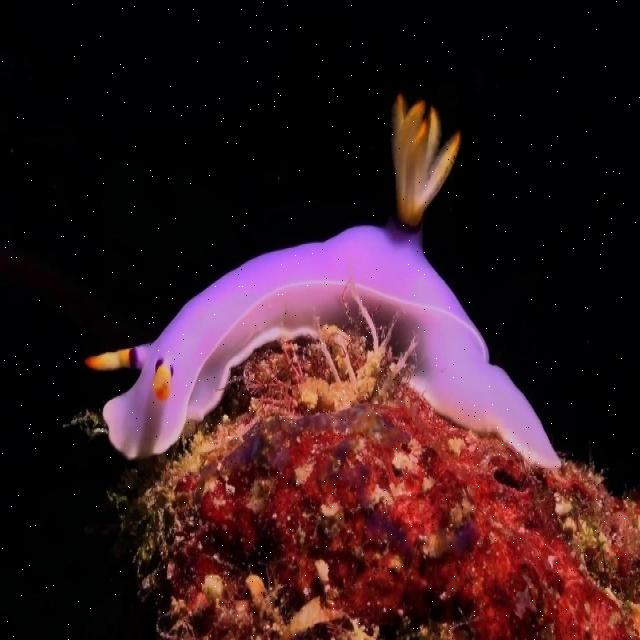reefs: (116, 281, 639, 639), (88, 93, 562, 470)
